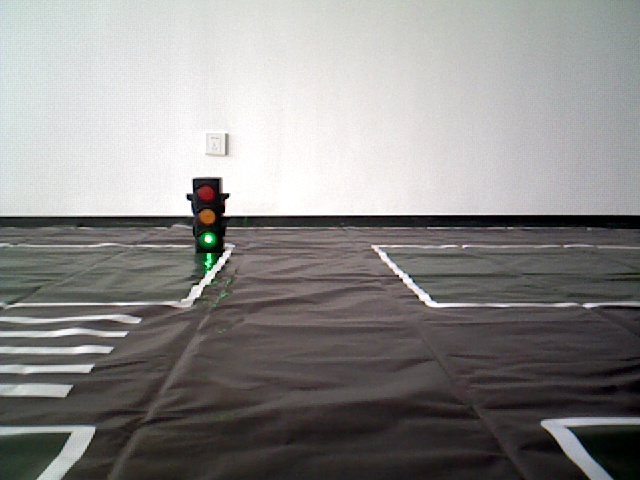green: (192, 182, 226, 246)
